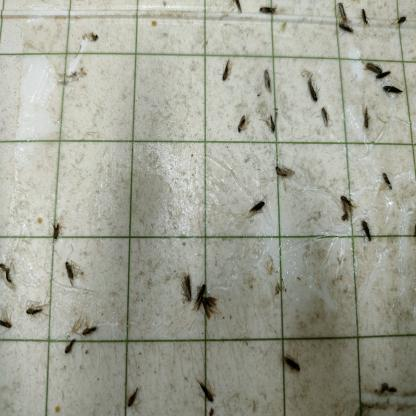prays_oleae: (197, 275, 222, 317), (270, 154, 294, 192), (274, 350, 308, 376), (191, 374, 222, 402), (24, 294, 49, 320), (333, 193, 357, 220), (176, 270, 196, 302), (380, 161, 395, 202), (300, 76, 320, 105), (358, 217, 375, 249), (262, 111, 278, 142), (248, 198, 269, 221), (64, 260, 84, 284), (360, 108, 374, 140), (4, 259, 20, 287), (262, 67, 272, 110), (363, 54, 383, 75), (124, 386, 142, 409), (258, 4, 281, 22), (382, 82, 405, 100), (358, 8, 374, 32), (48, 219, 67, 239), (331, 0, 352, 18), (237, 115, 254, 136), (220, 58, 236, 80), (390, 13, 412, 29), (319, 106, 334, 127), (375, 67, 394, 83), (336, 20, 355, 35), (226, 0, 245, 15), (0, 312, 15, 330), (80, 322, 98, 334)
